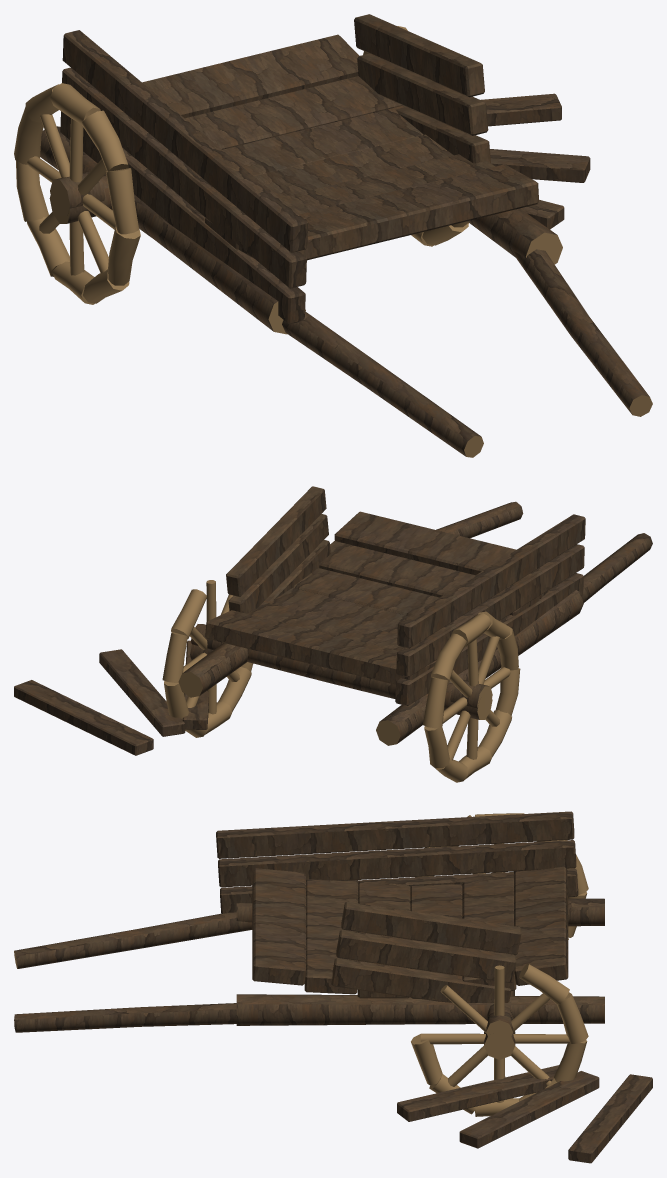
3 views of the same model, one above another, from view 1: azimuth 30°, elevation 25°; view 2: azimuth 150°, elevation 25°; view 3: azimuth 270°, elevation 25° (orthographic). The views are drawn at different scales.
Visible parts, largest first — view 1: woodland-broken-trader-cart · evaluated preview mesh; view 2: woodland-broken-trader-cart · evaluated preview mesh; view 3: woodland-broken-trader-cart · evaluated preview mesh.
Boxes of the visible parts, x1,y1,x2,y2 form: woodland-broken-trader-cart · evaluated preview mesh: (14, 14, 652, 457); woodland-broken-trader-cart · evaluated preview mesh: (14, 486, 652, 782); woodland-broken-trader-cart · evaluated preview mesh: (14, 811, 652, 1163).
Size of the model in its own units: 4.75 by 2.06 by 6.08.
Materials: 2 (1 with a texture image).
